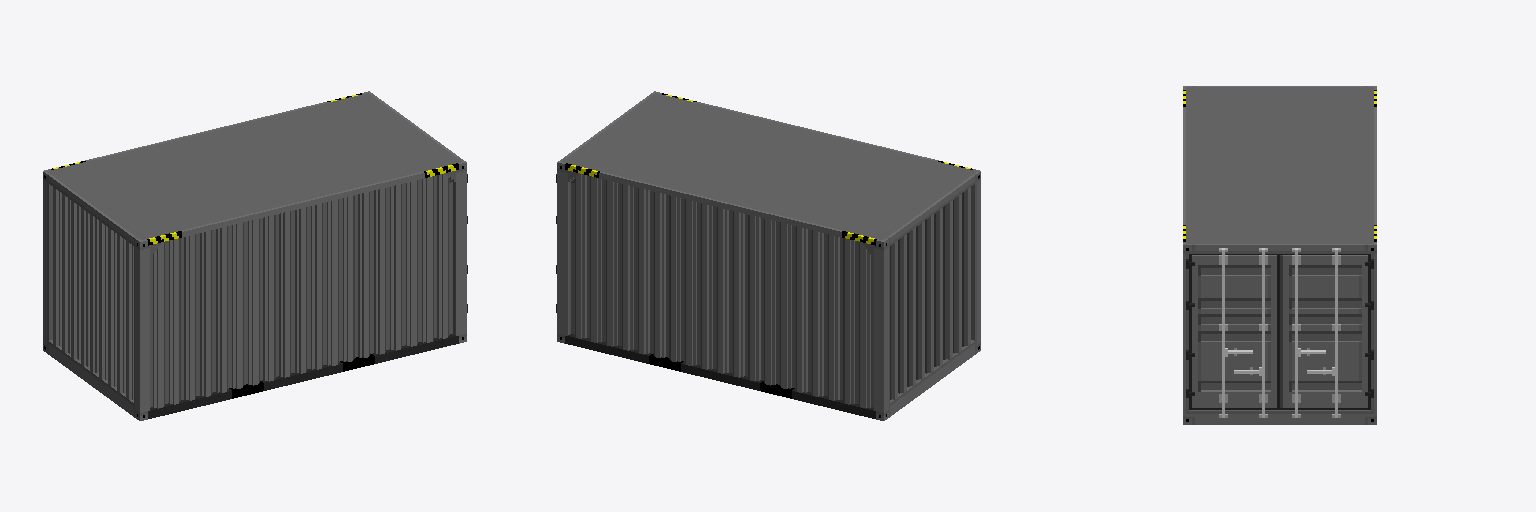
3 views of the same model, side by side, from view 1: azimuth 30°, elevation 25°; view 2: azimuth 150°, elevation 25°; view 3: azimuth 270°, elevation 25° (orthographic).
Parts seen in each view (by area): view 1: object 1; view 2: object 1; view 3: object 1.
Boxes of the visible parts, x1,y1,x2,y2 form: object 1: [43, 91, 467, 420]; object 1: [556, 91, 980, 420]; object 1: [1183, 86, 1376, 424].
Bounding box in the file's own units: 12.5 × 6.5 × 6.4.
1 materials, 1 textured.